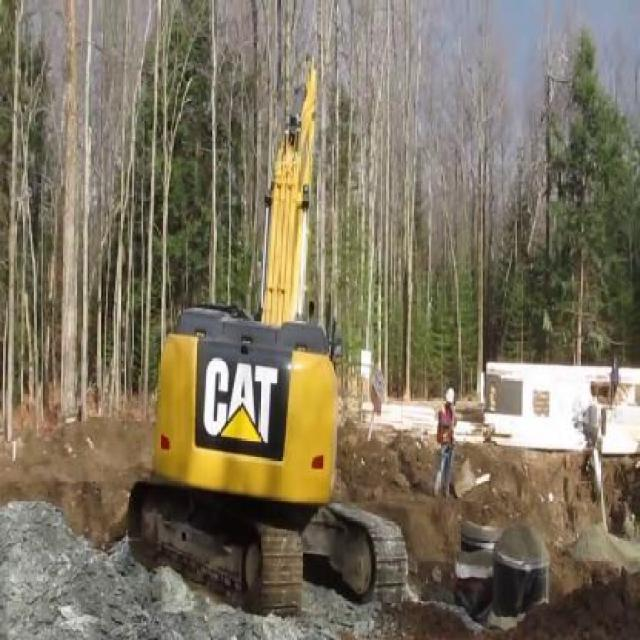Excavator: (125, 52, 408, 630)
